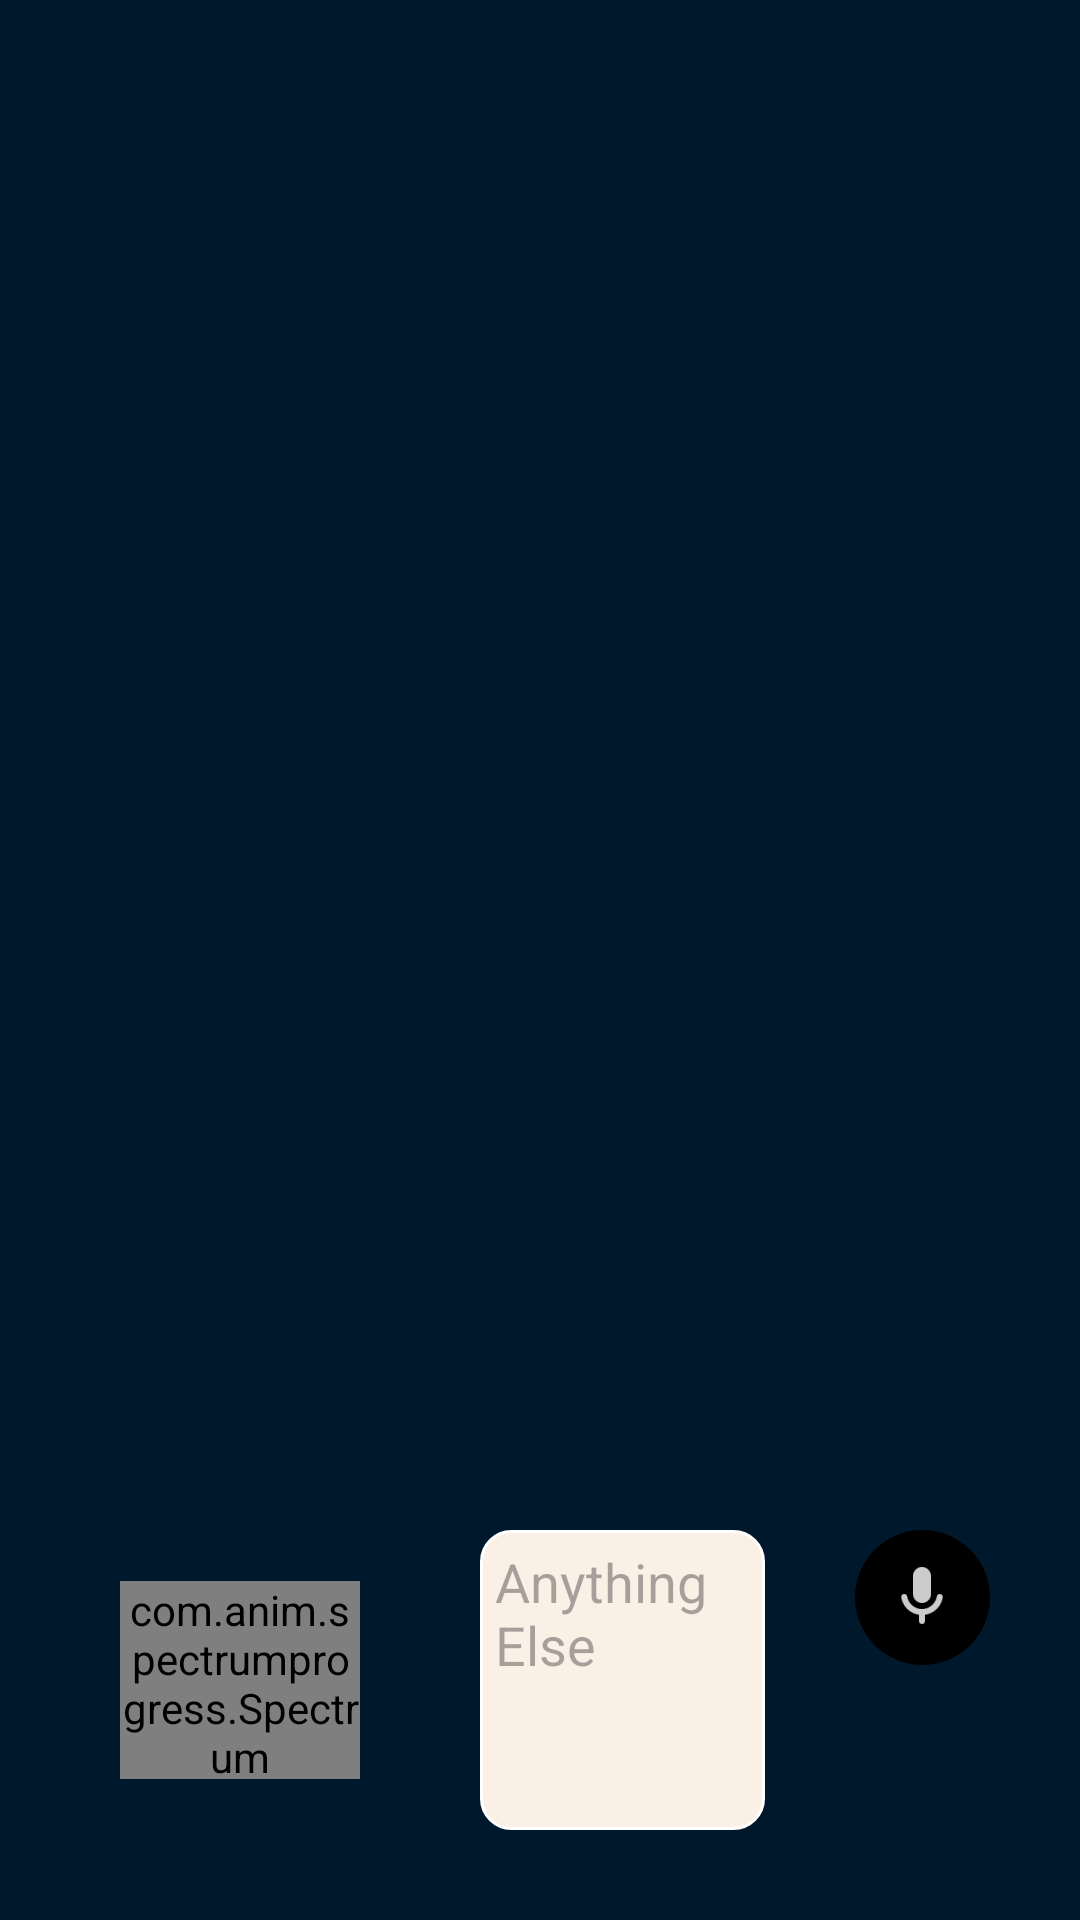

Named icons in this screenshot (1080 x 1920) and their centers, (x=x, y=y):
chat start stop toggle: (x=922, y=1597)
